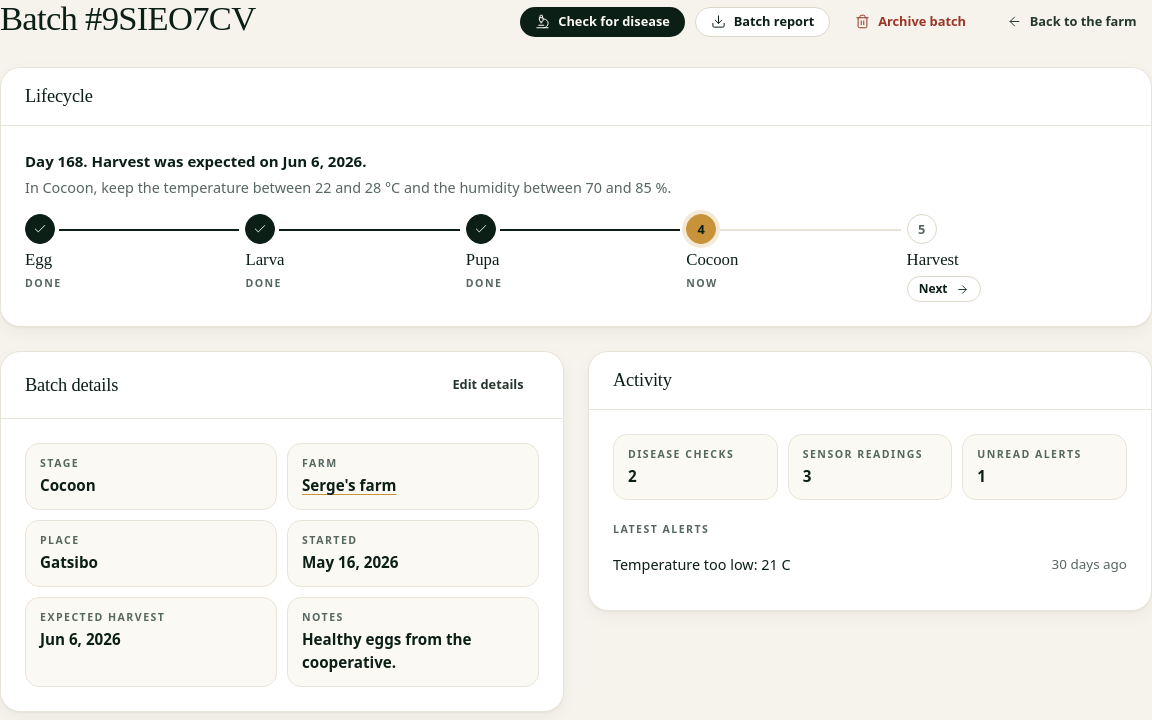
Test: Batch details page › opens the harvest record when the batch reaches harvest
Click the button with aria-label "Move to Harvest". click: (944, 289)
box: [907,276,981,302]
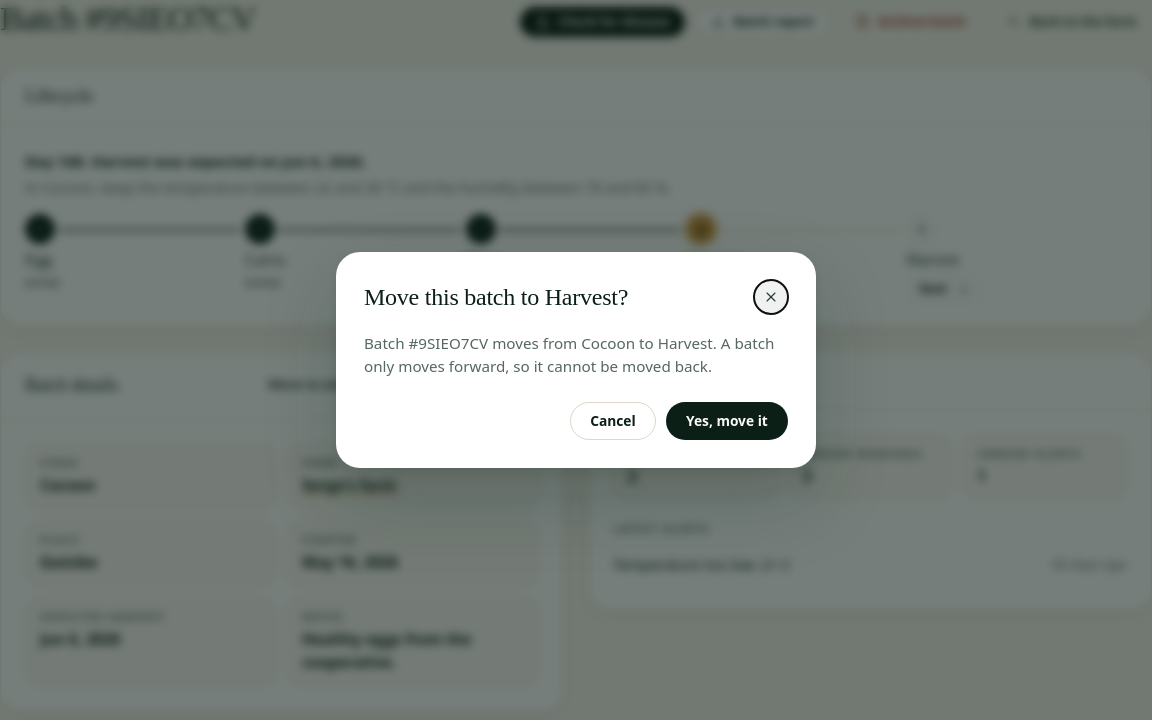
Click the button "Yes, move it". click: (727, 421)
box: [666,402,788,440]
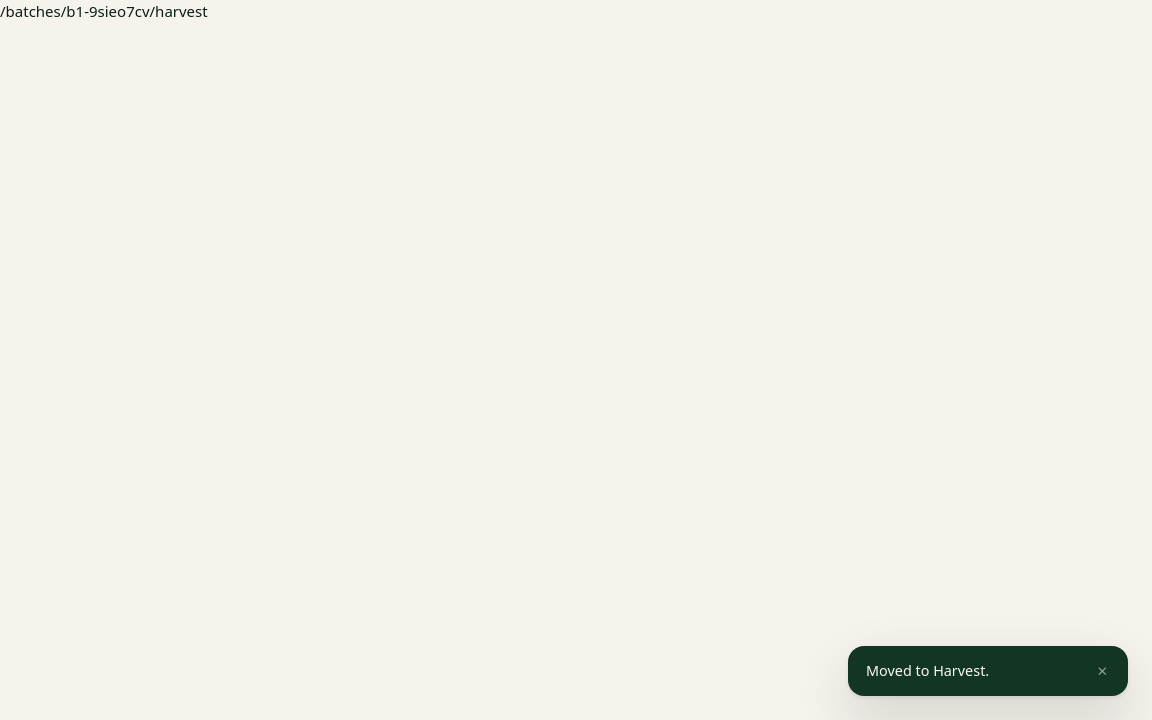
Expected: the text with test id "where" reads "/batches/b1-9sieo7cv/harvest", [0,1,208,21]
